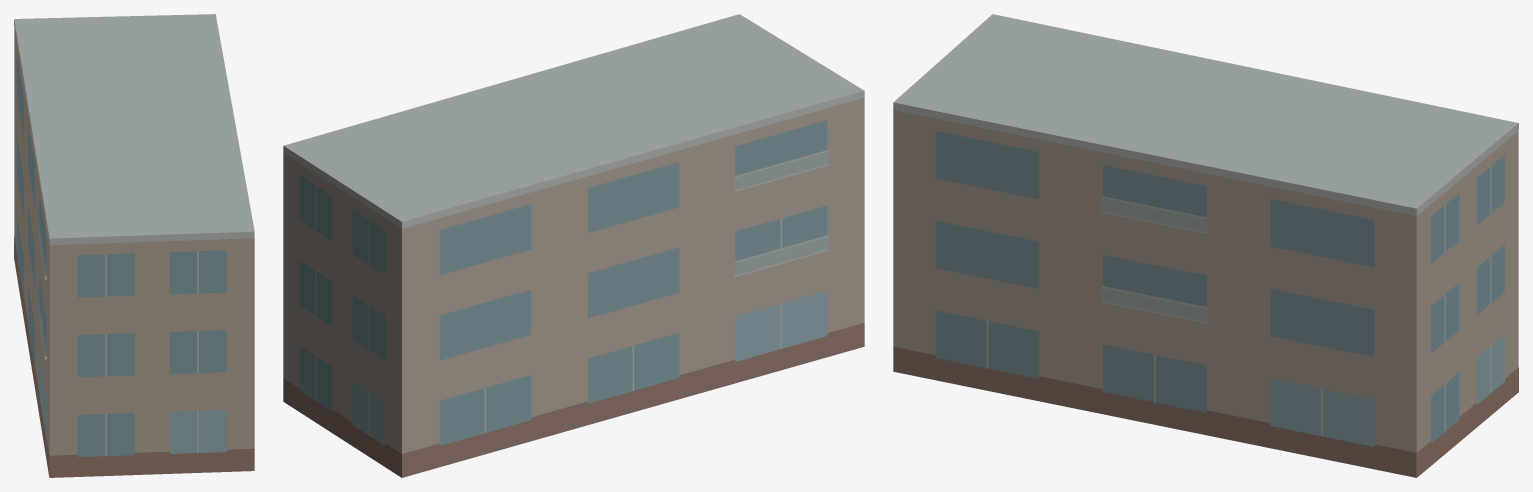
Rendered from survey-upis-32745122.glb.
3 views of the same model, side by side, from view 1: azimuth 30°, elevation 25°; view 2: azimuth 150°, elevation 25°; view 3: azimuth 270°, elevation 25° (orthographic). The views are drawn at different scales.
Parts seen in each view (by area): view 1: survey-upis-32745122.tmp; view 2: survey-upis-32745122.tmp; view 3: survey-upis-32745122.tmp.
Part boxes in pixels (x1,y1,x2,y2): survey-upis-32745122.tmp: (14,14,254,477); survey-upis-32745122.tmp: (283,14,864,477); survey-upis-32745122.tmp: (893,14,1518,477).
Size of the model in its own units: 13.66 by 8.8 by 18.54.
